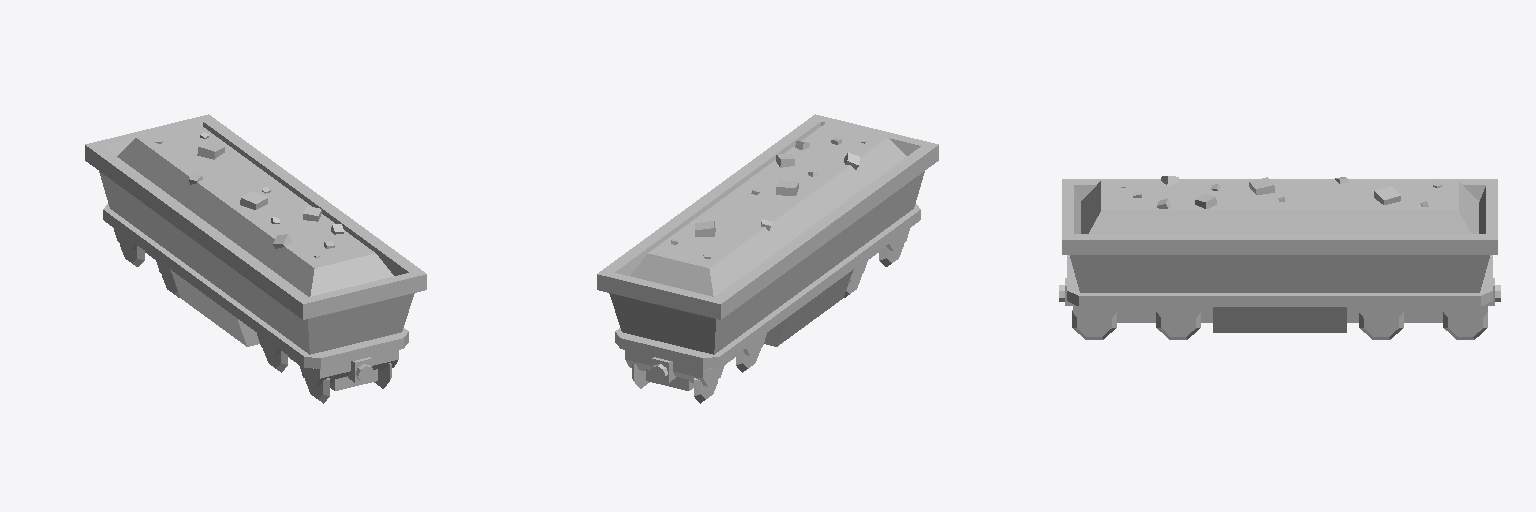
Rendered from SM_Veh_Carriage_Coal_01.obj.
3 renders of one model, left to right at view 1: azimuth 30°, elevation 25°; view 2: azimuth 150°, elevation 25°; view 3: azimuth 270°, elevation 25°, orthographic.
Visible parts, largest first — view 1: SM_Veh_Carriage_Coal_01:Mesh; view 2: SM_Veh_Carriage_Coal_01:Mesh; view 3: SM_Veh_Carriage_Coal_01:Mesh.
Boxes of the visible parts, x1,y1,x2,y2 form: SM_Veh_Carriage_Coal_01:Mesh: [85, 114, 426, 403]; SM_Veh_Carriage_Coal_01:Mesh: [597, 114, 938, 403]; SM_Veh_Carriage_Coal_01:Mesh: [1059, 176, 1500, 339].
Bounding box in the file's own units: 5.34 × 5.68 × 16.45.